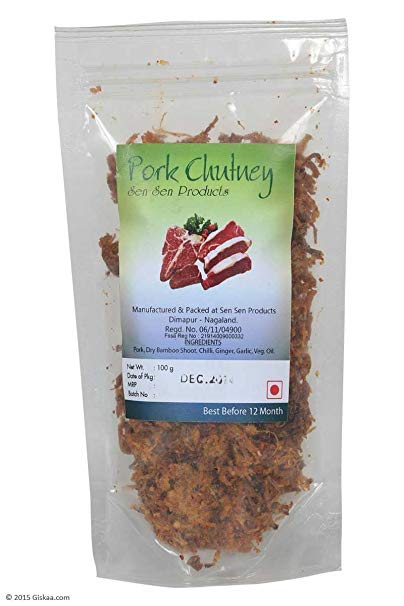nonveg_red: (265, 379, 284, 399)
